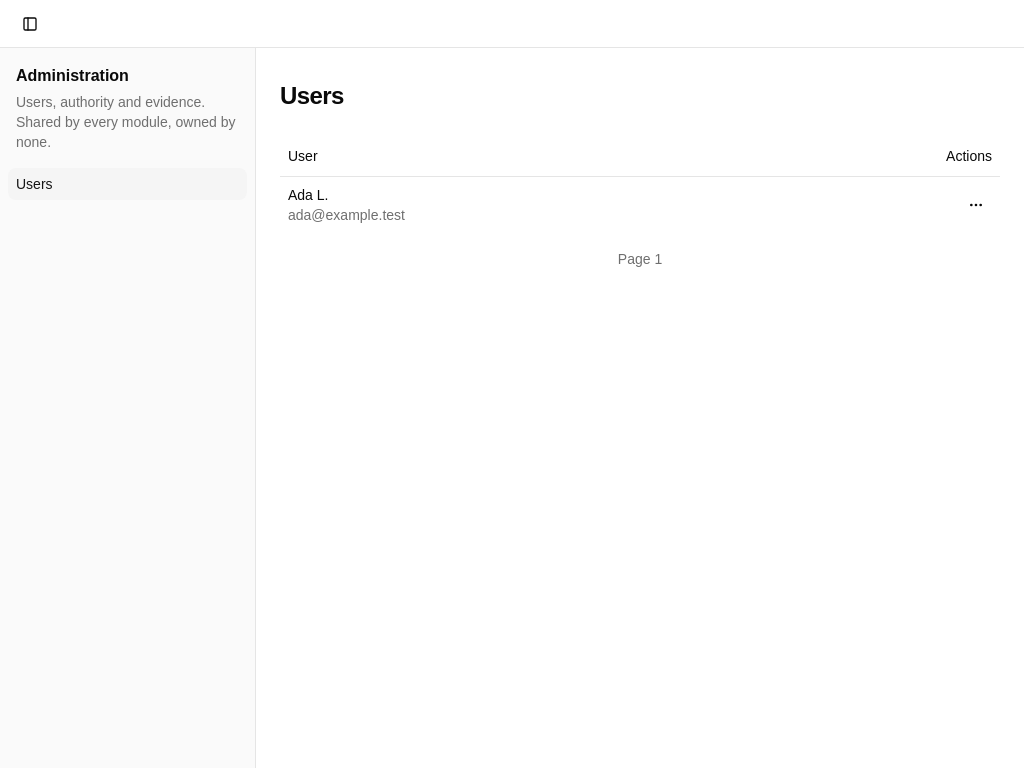
Test: what is sent › sends nothing for an empty address, and says so
This screenshot has width=1024, height=768.
What coordinates should you click on to do the following:
click the button named "Actions for Ada L."
I would click on:
 (976, 204)
Its box is [960, 188, 992, 220].
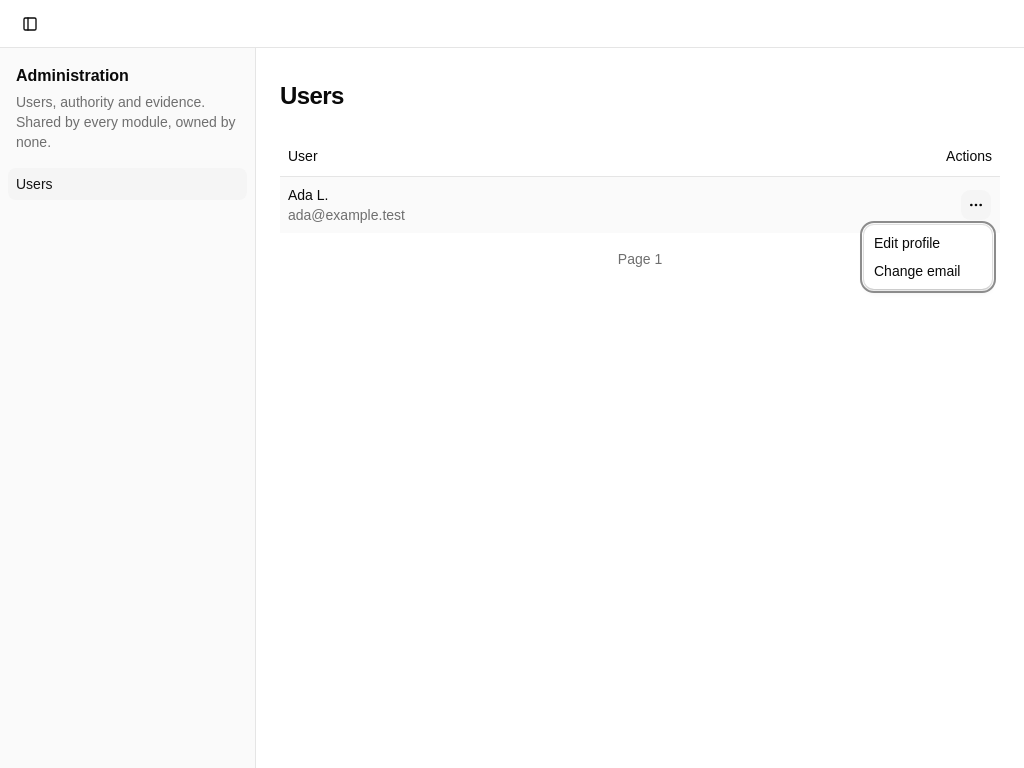
What coordinates should you click on to do the following:
click the menu item "Change email"
I would click on:
 (917, 271)
Its box is [874, 263, 960, 279].
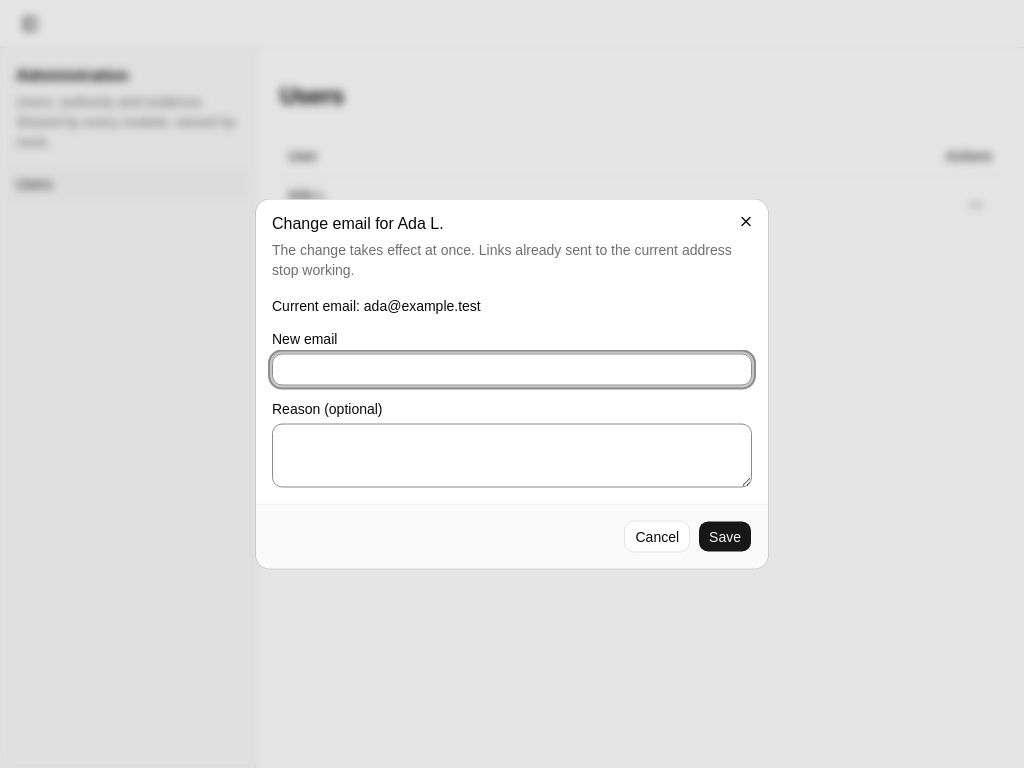
What coordinates should you click on to do the following:
click the button "Save"
I would click on:
 (725, 536)
Its box is [698, 520, 752, 552].
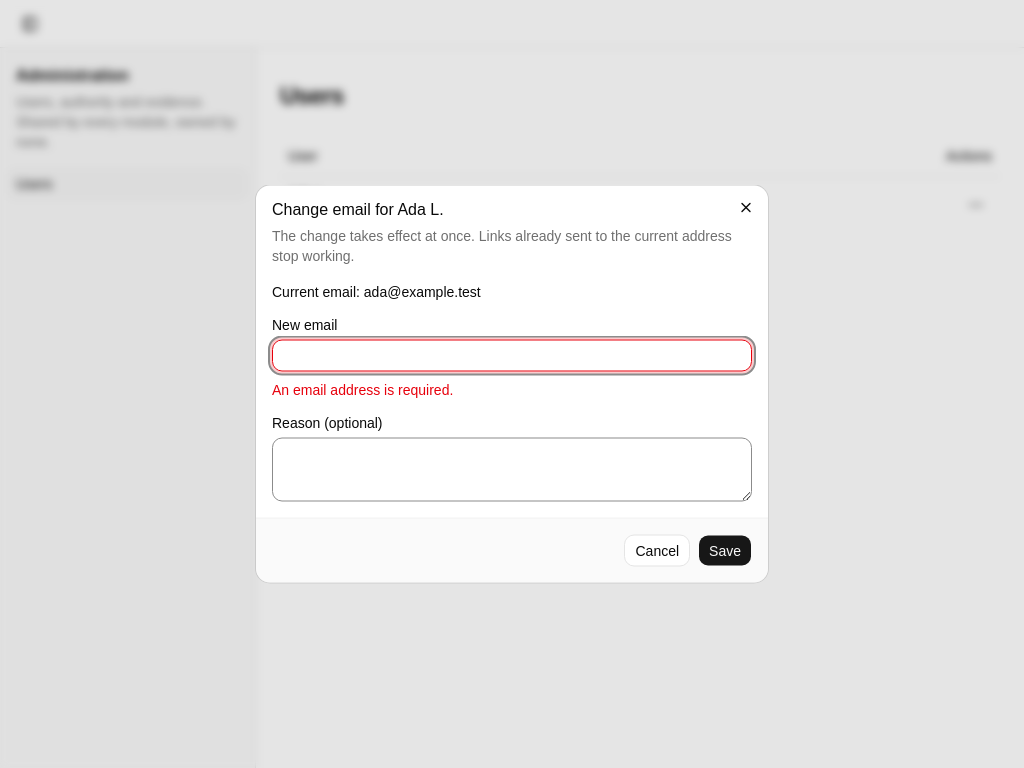
Check: the text "An email address is required." is shown, box [272, 382, 453, 398]
